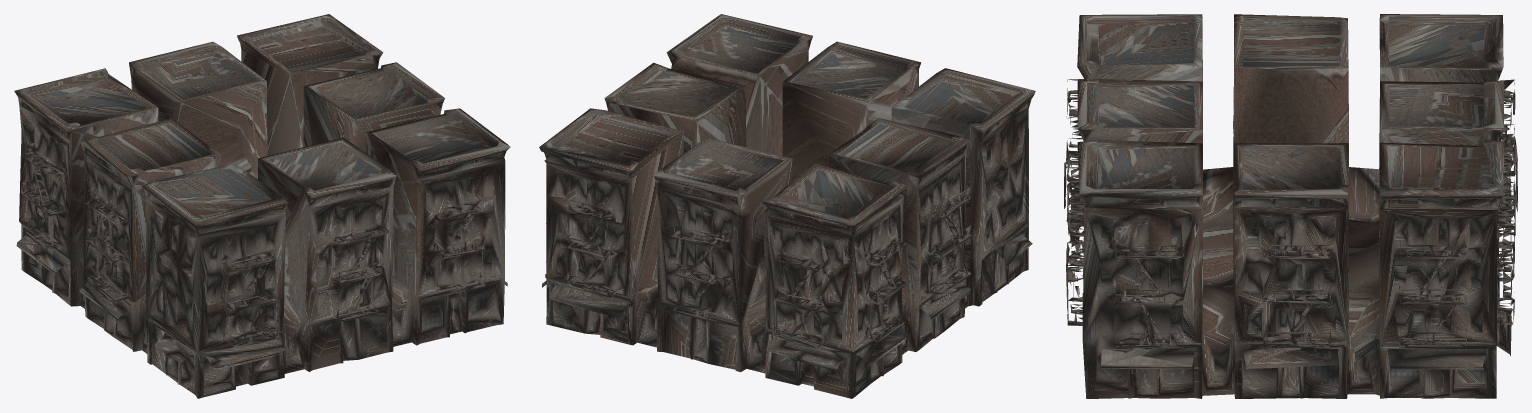
Rendered from corner_block_b_lod.glb.
3 renders of one model, left to right at view 1: azimuth 30°, elevation 25°; view 2: azimuth 150°, elevation 25°; view 3: azimuth 270°, elevation 25°, orthographic. The views are drawn at different scales.
Size of the model in its own units: 32.88 by 16.99 by 33.29.
Materials: 1 (1 with a texture image).
